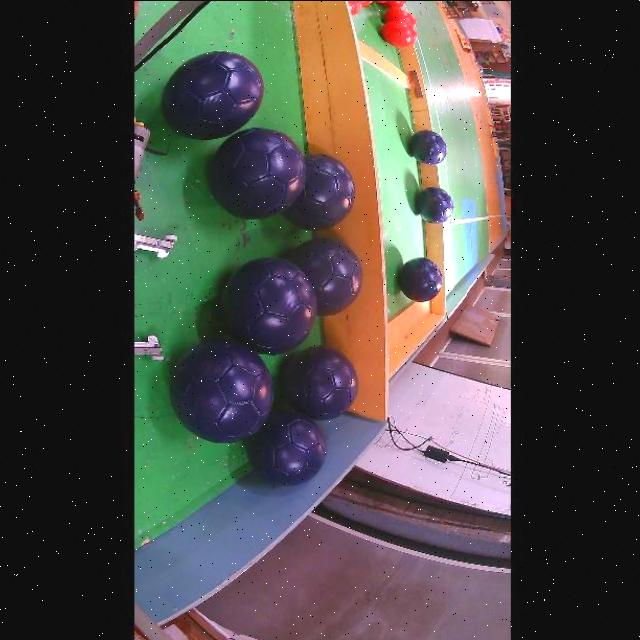B: (172, 337, 274, 443), (222, 256, 318, 354), (164, 51, 265, 138), (211, 127, 307, 218), (249, 409, 328, 485), (290, 236, 364, 315), (283, 345, 359, 419), (286, 153, 356, 230), (399, 257, 444, 300), (418, 187, 456, 223), (410, 129, 448, 164)
R: (382, 19, 419, 47), (384, 8, 418, 27), (349, 0, 364, 14), (384, 0, 407, 8), (363, 0, 375, 6), (376, 0, 389, 2)
